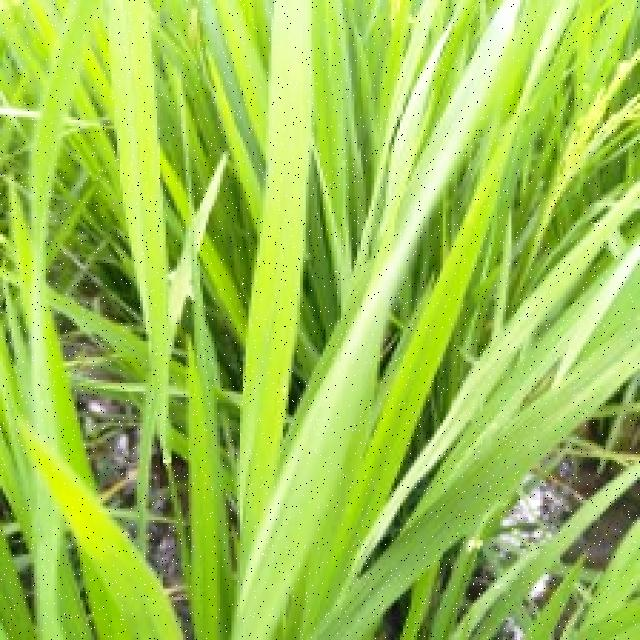health: (3, 0, 640, 626)
